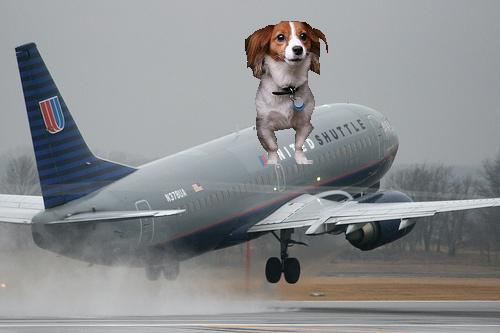tampered: (246, 22, 328, 164)
